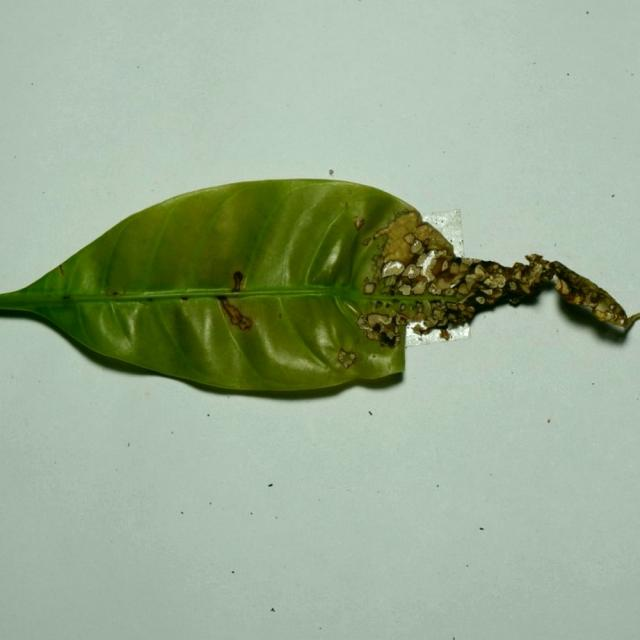Anthracnose: (213, 222, 387, 368), (112, 289, 306, 338), (79, 276, 258, 326), (76, 283, 198, 302), (360, 228, 394, 294), (368, 207, 418, 244), (59, 292, 93, 301), (109, 289, 123, 296)
Mango: (0, 180, 634, 403)
